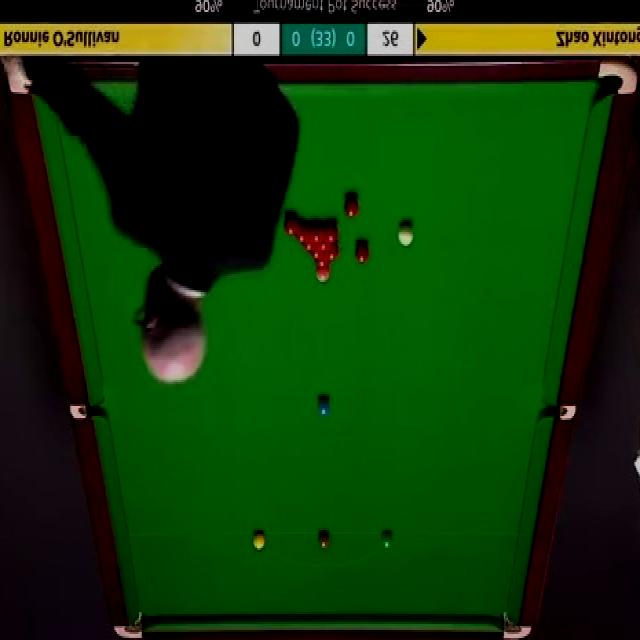pocket: (598, 59, 636, 94), (501, 612, 532, 637), (115, 612, 144, 638), (71, 400, 103, 421), (542, 400, 575, 420), (12, 73, 32, 93)
